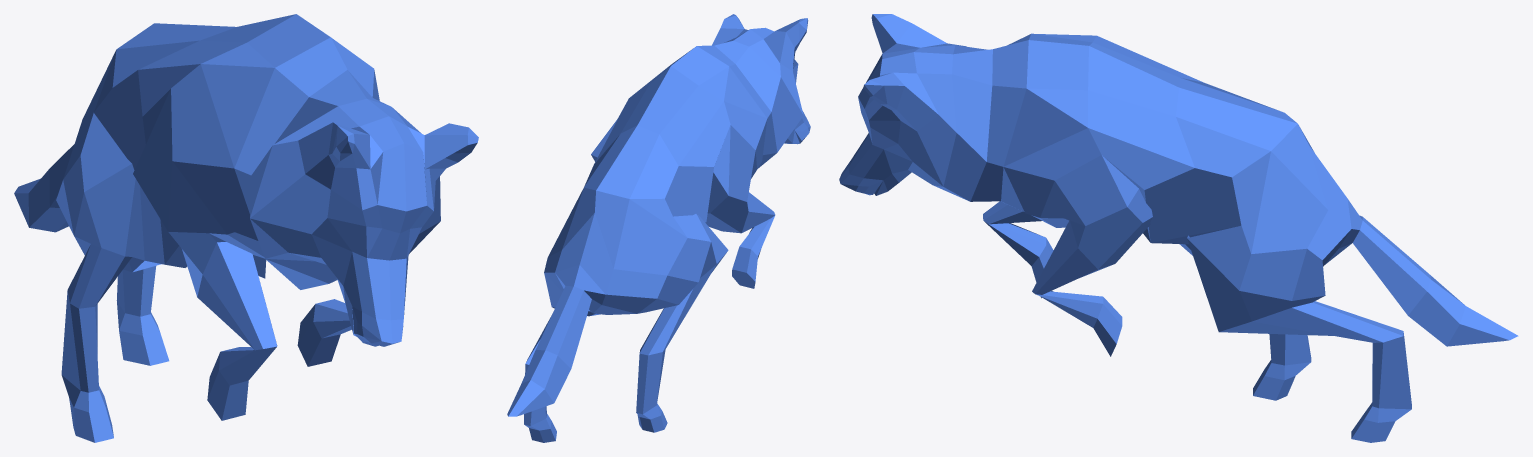
File: wolfRunA_v009016.obj
The picture shows the model from 3 angles, left to right: view 1: azimuth 30°, elevation 25°; view 2: azimuth 150°, elevation 25°; view 3: azimuth 270°, elevation 25°; orthographic projection. The views are drawn at different scales.
Parts seen in each view (by area): view 1: comp_wolf_rig:wolf_body comp_wolf_rig:wolf; view 2: comp_wolf_rig:wolf_body comp_wolf_rig:wolf; view 3: comp_wolf_rig:wolf_body comp_wolf_rig:wolf.
Boxes of the visible parts, box(x1,y1,x2,y2) form: comp_wolf_rig:wolf_body comp_wolf_rig:wolf: box(14, 14, 478, 442); comp_wolf_rig:wolf_body comp_wolf_rig:wolf: box(507, 14, 810, 442); comp_wolf_rig:wolf_body comp_wolf_rig:wolf: box(839, 14, 1518, 442).
Size of the model in its own units: 38.58 by 73.19 by 117.
